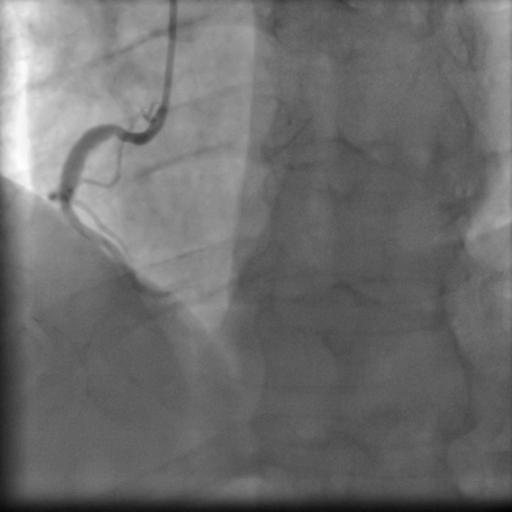Stenosis: (54, 191, 89, 221)
